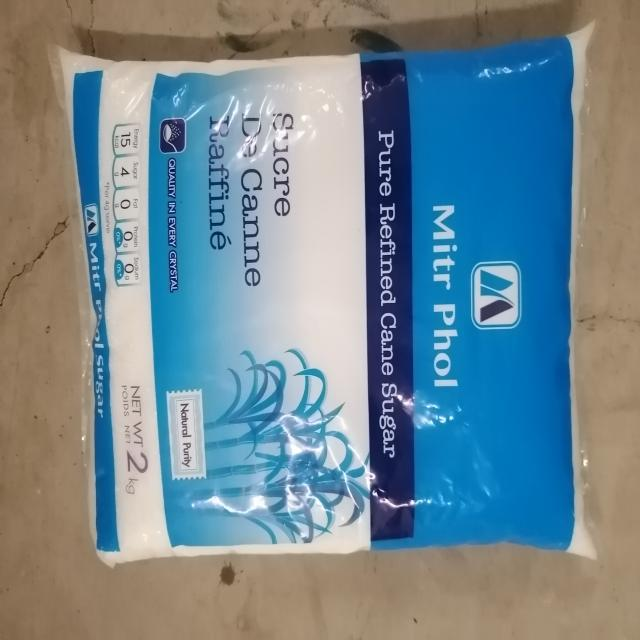object_name: (72, 59, 589, 553)
